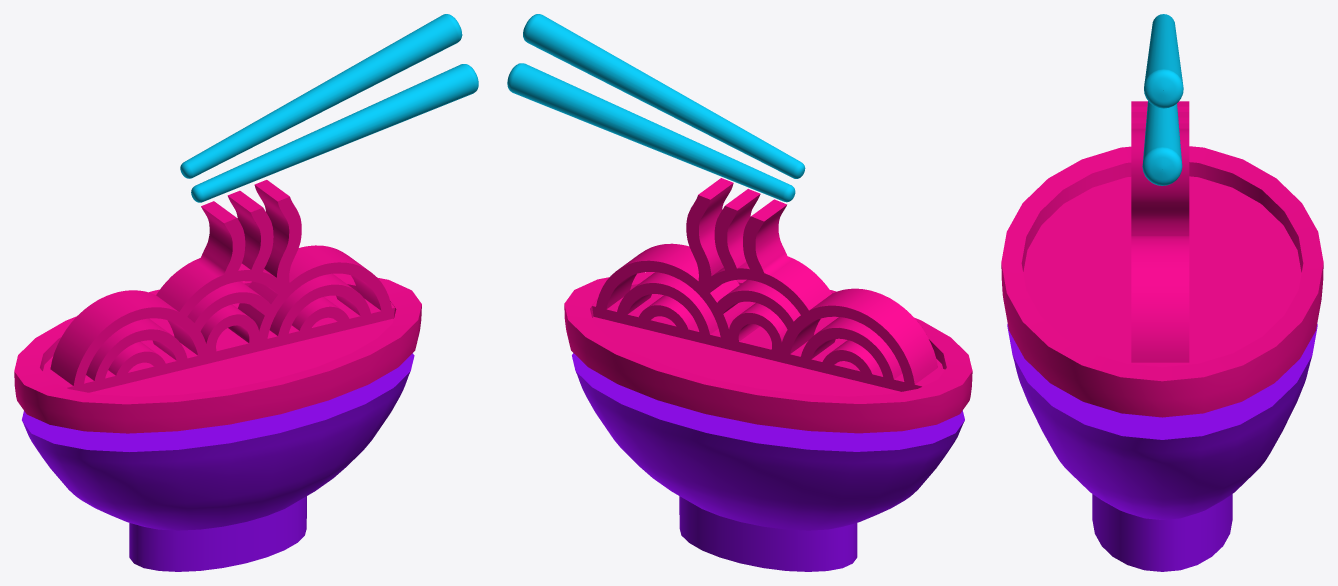
File: Ramen.glb
3 renders of one model, left to right at view 1: azimuth 30°, elevation 25°; view 2: azimuth 150°, elevation 25°; view 3: azimuth 270°, elevation 25°, orthographic. The views are drawn at different scales.
Parts seen in each view (by area): view 1: mesh_id6, mesh_id7, mesh_id8, mesh_id9, mesh_id4, mesh_id5; view 2: mesh_id6, mesh_id7, mesh_id8, mesh_id10, mesh_id4, mesh_id5; view 3: mesh_id7, mesh_id6, mesh_id8, mesh_id4, mesh_id5.
Part boxes in pixels (left/top/right/bottom): mesh_id6: left=22, top=353, right=414, bottom=571; mesh_id7: left=14, top=273, right=421, bottom=433; mesh_id8: left=42, top=180, right=394, bottom=387; mesh_id9: left=67, top=197, right=394, bottom=392; mesh_id4: left=180, top=14, right=462, bottom=178; mesh_id5: left=191, top=64, right=478, bottom=202; mesh_id6: left=572, top=353, right=964, bottom=571; mesh_id7: left=564, top=272, right=972, bottom=433; mesh_id8: left=592, top=178, right=945, bottom=386; mesh_id10: left=592, top=195, right=921, bottom=391; mesh_id4: left=523, top=14, right=805, bottom=178; mesh_id5: left=507, top=63, right=795, bottom=202; mesh_id7: left=1001, top=146, right=1323, bottom=417; mesh_id6: left=1007, top=324, right=1317, bottom=571; mesh_id8: left=1131, top=101, right=1189, bottom=367; mesh_id4: left=1144, top=14, right=1183, bottom=108; mesh_id5: left=1142, top=101, right=1182, bottom=185.
Bounding box in the file's own units: 0.512 × 0.5113 × 0.2524.
7 materials, 7 textured.
